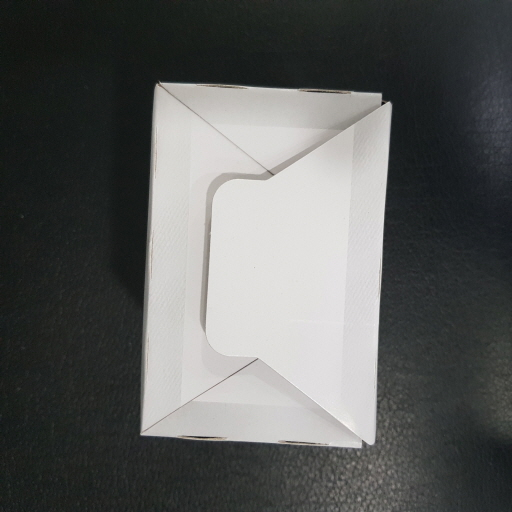Paper_0: (131, 67, 393, 457)
